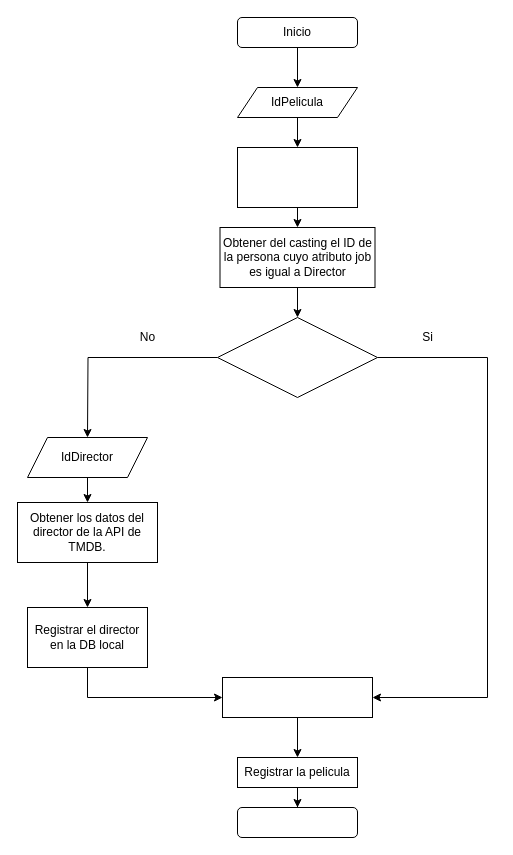
Image size: 513x855. Some labels were removed from this diagram. The box of each missing label's shape, as (x1, y1, x2, y2) in pixels:
El director existe en la DB: (216, 316, 378, 398)
Fin: (236, 806, 358, 838)
Obtener el casting de la pelicula: (236, 146, 358, 208)
Vincula al director con la pelicula: (222, 676, 372, 718)
